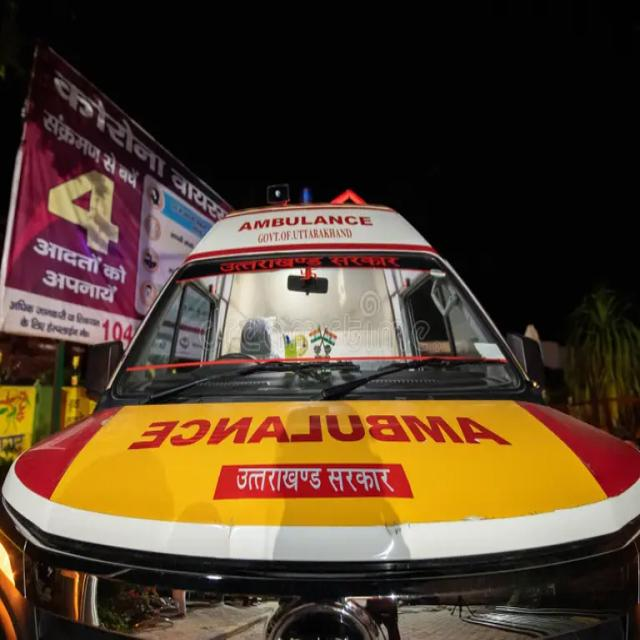ambulance: (129, 406, 545, 462), (230, 209, 394, 251)
